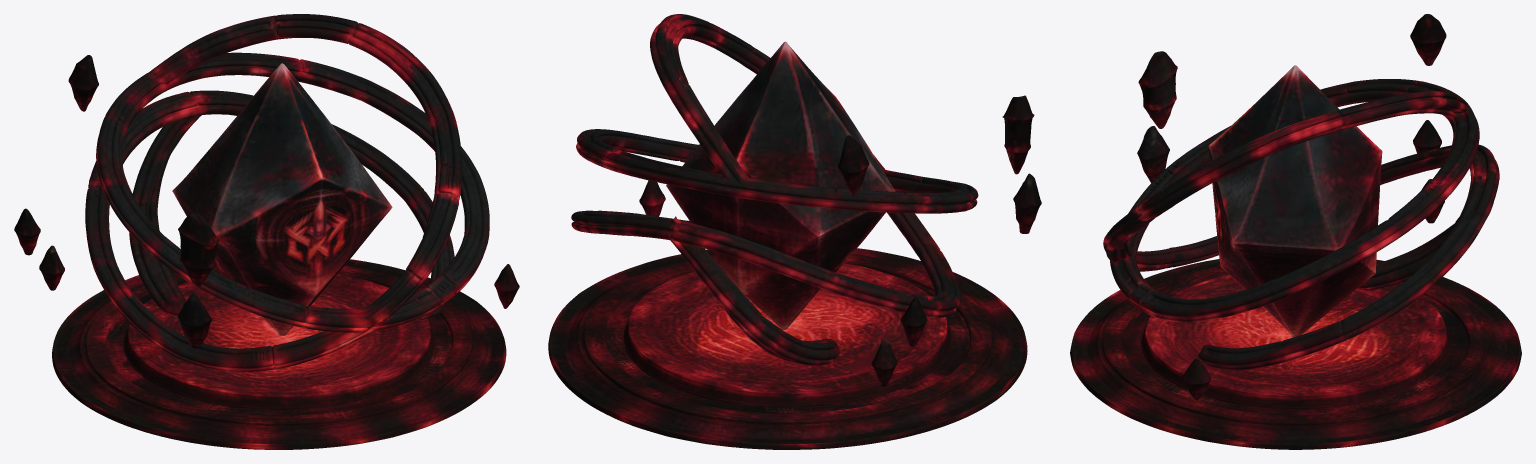
Rendered from reclamation-reactor.glb.
The picture shows the model from 3 angles, left to right: view 1: azimuth 30°, elevation 25°; view 2: azimuth 150°, elevation 25°; view 3: azimuth 270°, elevation 25°; orthographic projection. The views are drawn at different scales.
Visible parts, largest first — view 1: material; view 2: material; view 3: material.
Part boxes in pixels (left/top/right/bottom): material: left=14, top=14, right=519, bottom=449; material: left=548, top=14, right=1041, bottom=449; material: left=1070, top=14, right=1521, bottom=449.
Size of the model in its own units: 0.9827 by 0.693 by 0.974.
1 material, 1 textured.
